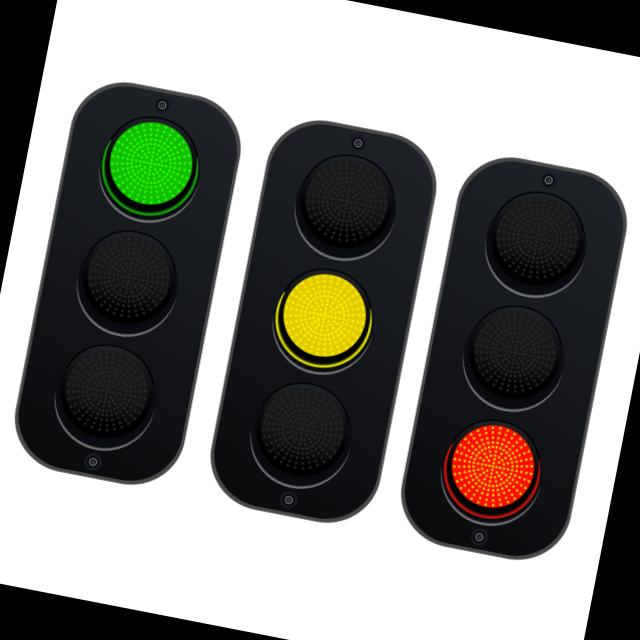green-lights: (96, 115, 194, 222)
red-lights: (439, 426, 537, 530)
yellow-lights: (258, 248, 380, 380)
